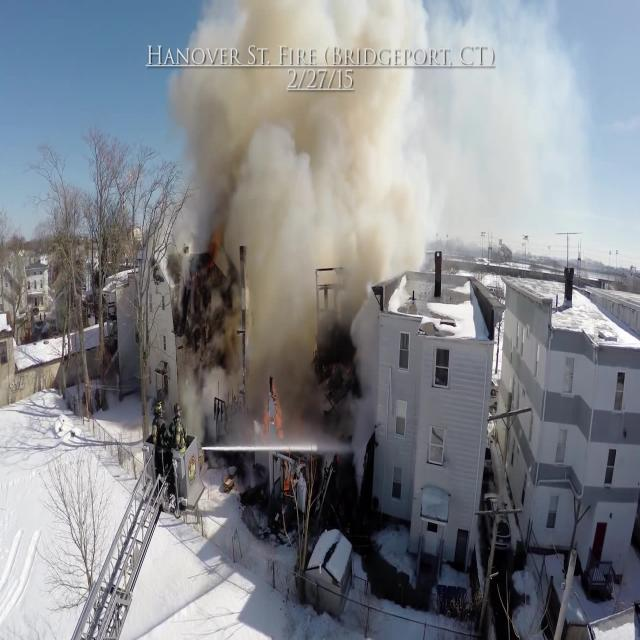smoke: (196, 6, 569, 240), (238, 244, 379, 417)
